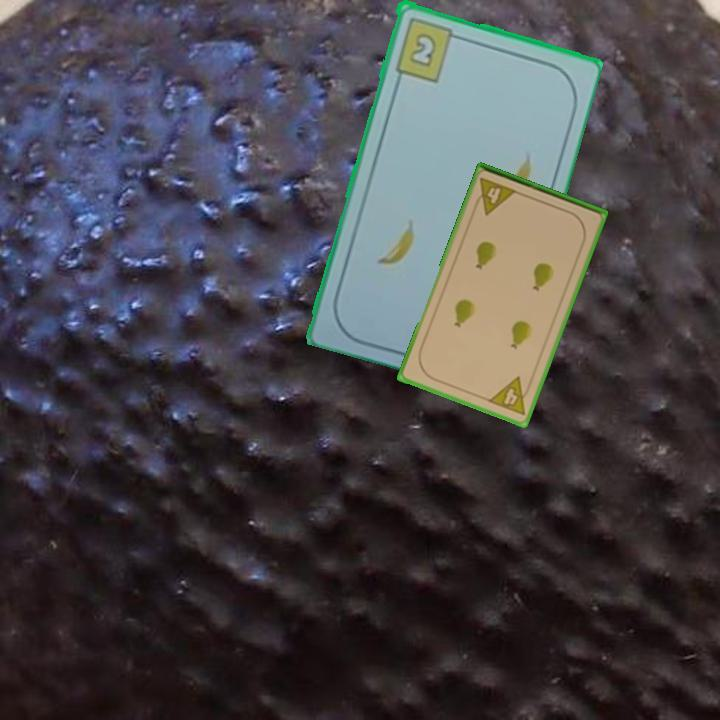2b: (391, 13, 464, 84)
4p: (484, 373, 535, 418), (470, 174, 520, 218)
